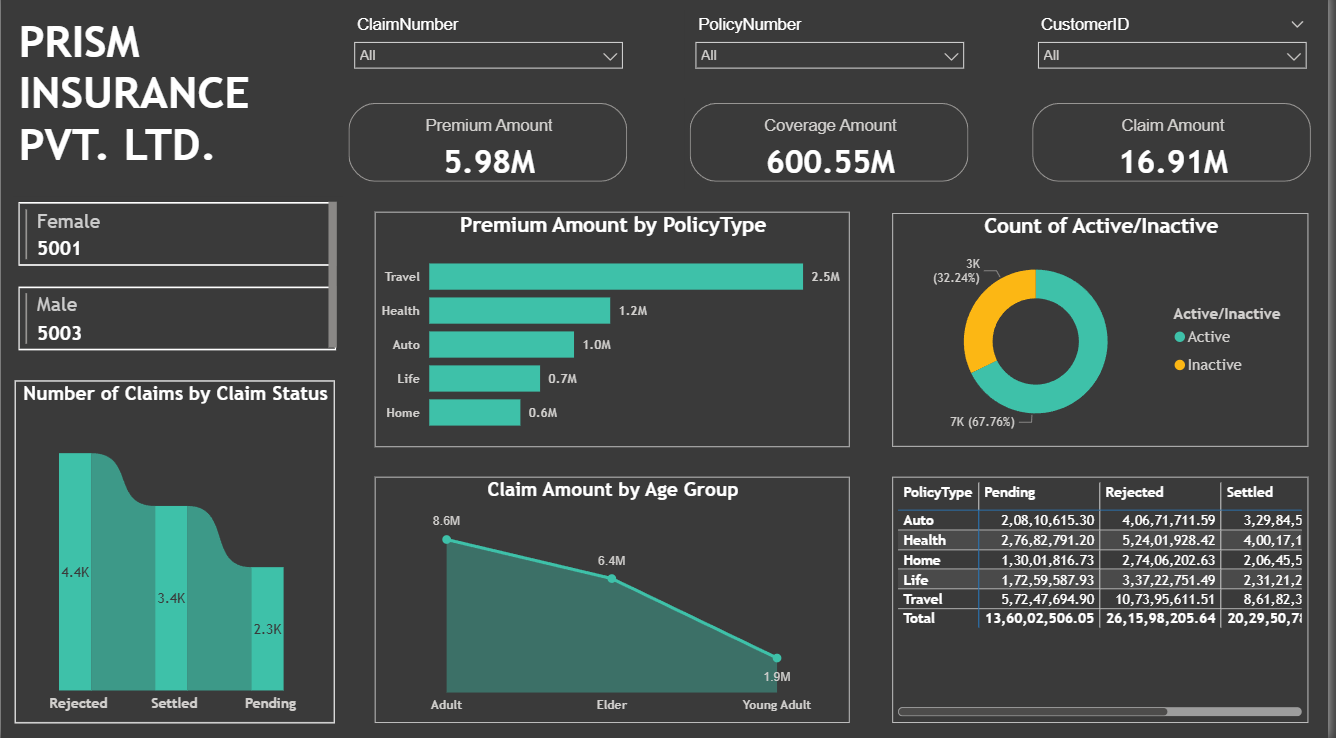

This screenshot's page, from the dashboard's own definition file:
{"tool":"powerbi","page":{"name":"Page 1","canvas":[1280,720],"ordinal":0},"visuals":[{"type":"slicer","fields":{"Values":["Insurance-Customer-Feedback.CustomerID"]},"box":[990.5,16.9,279.9,84.5],"z":0},{"type":"slicer","fields":{"Values":["Insurance-Customer-Feedback.PolicyNumber"]},"box":[659.9,16.9,279.9,84.5],"z":1000},{"type":"slicer","fields":{"Values":["Insurance-Customer-Feedback.ClaimNumber"]},"box":[330.6,16.9,279.9,84.5],"z":2000},{"type":"textbox","box":[12.1,16.9,310.1,171.3],"z":3000},{"type":"cardVisual","fields":{"Data":["Sum(Insurance-Customer-Feedback.PremiumAmount)"]},"box":[330.6,101.3,279.9,86.9],"z":4000},{"type":"cardVisual","fields":{"Data":["Sum(Insurance-Customer-Feedback.CoverageAmount)"]},"box":[659.9,101.3,279.9,86.9],"z":5000},{"type":"cardVisual","fields":{"Data":["Sum(Insurance-Customer-Feedback.ClaimAmount)"]},"box":[990.5,101.3,279.9,86.9],"z":6000},{"type":"multiRowCard","fields":{"Values":["Insurance-Customer-Feedback.Gender","CountNonNull(Insurance-Customer-Feedback.Gender)"]},"box":[12.1,196.6,317.3,162.9],"z":7000},{"type":"ribbonChart","title":"Number of Claims by Claim Status","fields":{"Category":["Insurance-Customer-Feedback.ClaimStatus"],"Y":["CountNonNull(Insurance-Customer-Feedback.ClaimStatus)"]},"box":[13.3,374,308.8,330.6],"z":8000},{"type":"barChart","title":"Premium Amount by PolicyType","fields":{"Category":["Insurance-Customer-Feedback.PolicyType"],"Y":["Sum(Insurance-Customer-Feedback.PremiumAmount)"]},"box":[360.7,211.1,458.4,226.8],"z":9000},{"type":"lineChart","title":"Claim Amount by Age Group","fields":{"Category":["Insurance-Customer-Feedback.Age Group"],"Y":["Sum(Insurance-Customer-Feedback.ClaimAmount)"]},"box":[360.7,466.9,458.4,237.7],"z":10000},{"type":"donutChart","title":"Count of Active/Inactive","fields":{"Category":["Insurance-Customer-Feedback.Active/Inactive"],"Y":["CountNonNull(Insurance-Customer-Feedback.Active/Inactive)"]},"box":[860.2,212.3,401.7,225.6],"z":11000},{"type":"pivotTable","fields":{"Columns":["Insurance-Customer-Feedback.ClaimStatus"],"Rows":["Insurance-Customer-Feedback.PolicyType"],"Values":["Sum(Insurance-Customer-Feedback.CoverageAmount)"]},"box":[860.2,466.9,401.7,237.7],"z":11001}]}

Visuals, with their boxes in screenshot pixels (x1, y1, x2, y2), scaled from the page's 1280x720 canvas onto the 1336x738 screenshot:
slicer - Insurance-Customer-Feedback.CustomerID: {"left": 1034, "top": 17, "right": 1326, "bottom": 104}
slicer - Insurance-Customer-Feedback.PolicyNumber: {"left": 689, "top": 17, "right": 981, "bottom": 104}
slicer - Insurance-Customer-Feedback.ClaimNumber: {"left": 345, "top": 17, "right": 637, "bottom": 104}
textbox: {"left": 13, "top": 17, "right": 336, "bottom": 193}
cardVisual - Sum(Insurance-Customer-Feedback.PremiumAmount): {"left": 345, "top": 104, "right": 637, "bottom": 193}
cardVisual - Sum(Insurance-Customer-Feedback.CoverageAmount): {"left": 689, "top": 104, "right": 981, "bottom": 193}
cardVisual - Sum(Insurance-Customer-Feedback.ClaimAmount): {"left": 1034, "top": 104, "right": 1326, "bottom": 193}
multiRowCard - Insurance-Customer-Feedback.Gender x CountNonNull(Insurance-Customer-Feedback.Gender): {"left": 13, "top": 202, "right": 344, "bottom": 368}
"Number of Claims by Claim Status" ribbonChart: {"left": 14, "top": 383, "right": 336, "bottom": 722}
"Premium Amount by PolicyType" barChart: {"left": 376, "top": 216, "right": 855, "bottom": 449}
"Claim Amount by Age Group" lineChart: {"left": 376, "top": 479, "right": 855, "bottom": 722}
"Count of Active/Inactive" donutChart: {"left": 898, "top": 218, "right": 1317, "bottom": 449}
pivotTable - Insurance-Customer-Feedback.ClaimStatus x Insurance-Customer-Feedback.PolicyType: {"left": 898, "top": 479, "right": 1317, "bottom": 722}
